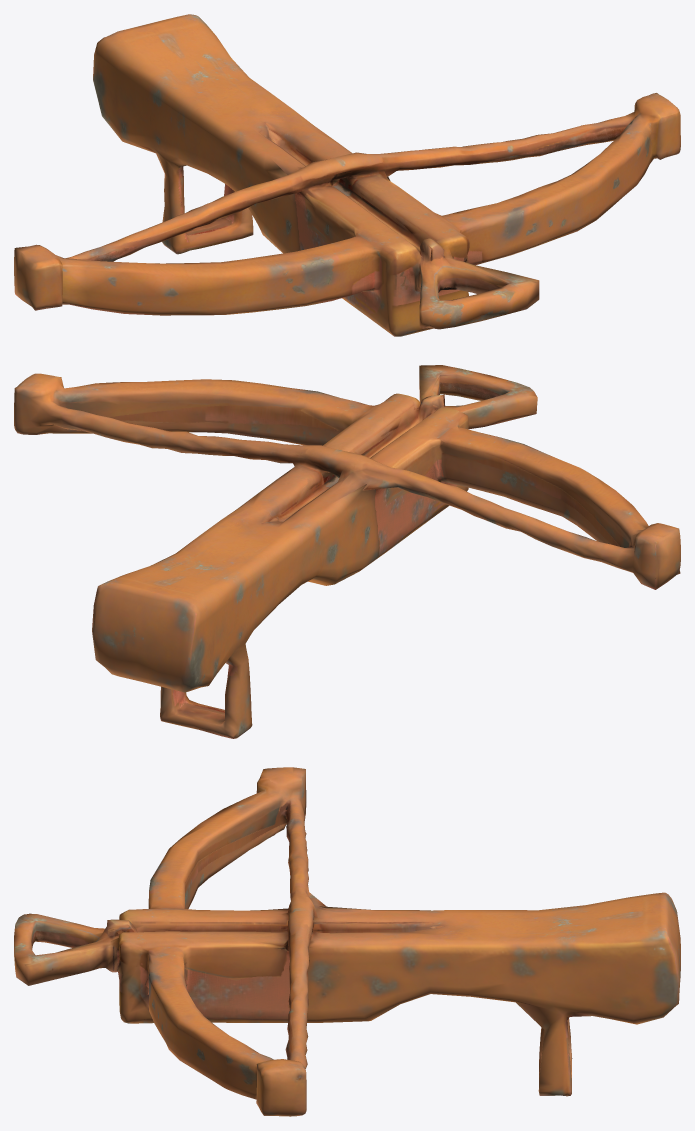
File: crossbow-bronze_backup.glb
3 renders of one model, top to bottom at view 1: azimuth 30°, elevation 25°; view 2: azimuth 150°, elevation 25°; view 3: azimuth 270°, elevation 25°, orthographic. The views are drawn at different scales.
Bounding box in the file's own units: 2 × 0.5168 × 1.83.
Materials: 1 (1 with a texture image).
